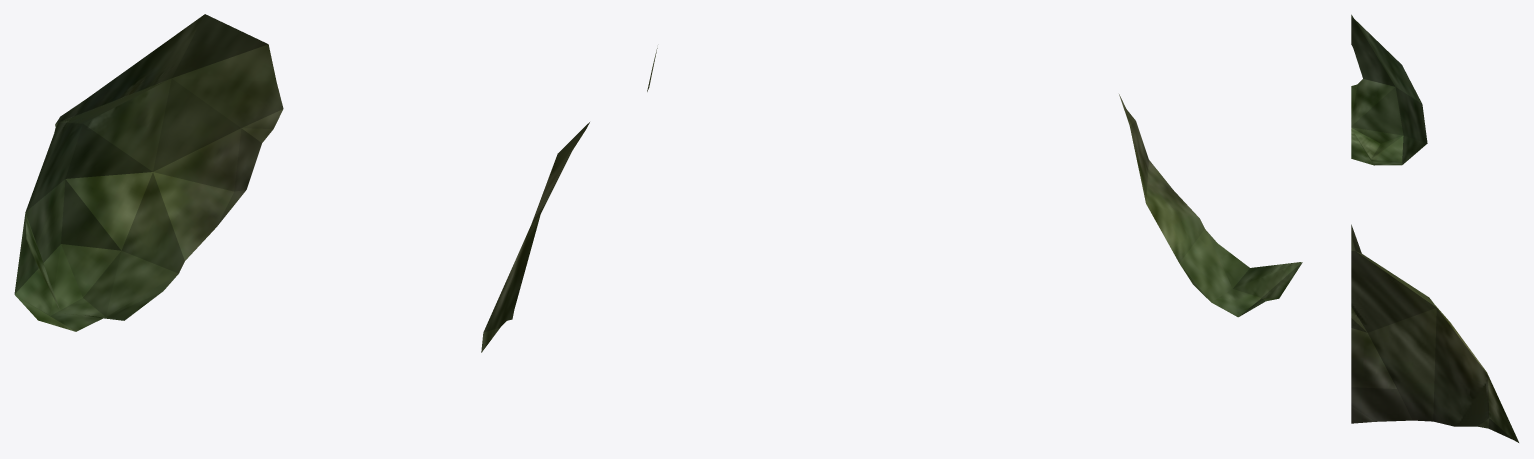
3 views of the same model, side by side, from view 1: azimuth 30°, elevation 25°; view 2: azimuth 150°, elevation 25°; view 3: azimuth 270°, elevation 25° (orthographic). The views are drawn at different scales.
Bounding box in the file's own units: 2.95 × 2.37 × 1.2.
1 material, 1 textured.
